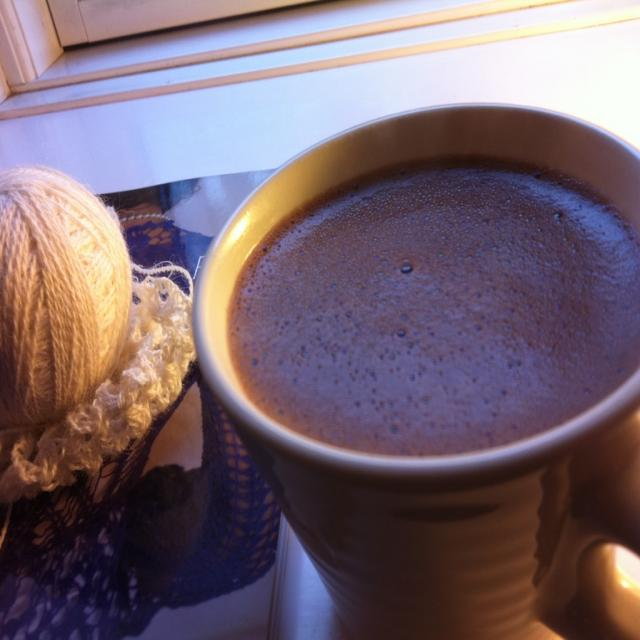Coffee: (225, 156, 640, 452)
Tea: (225, 168, 640, 456)
